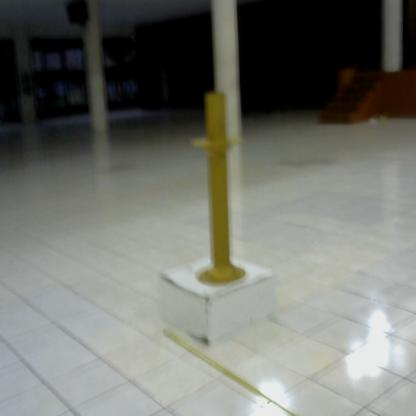pole: (187, 88, 253, 294)
